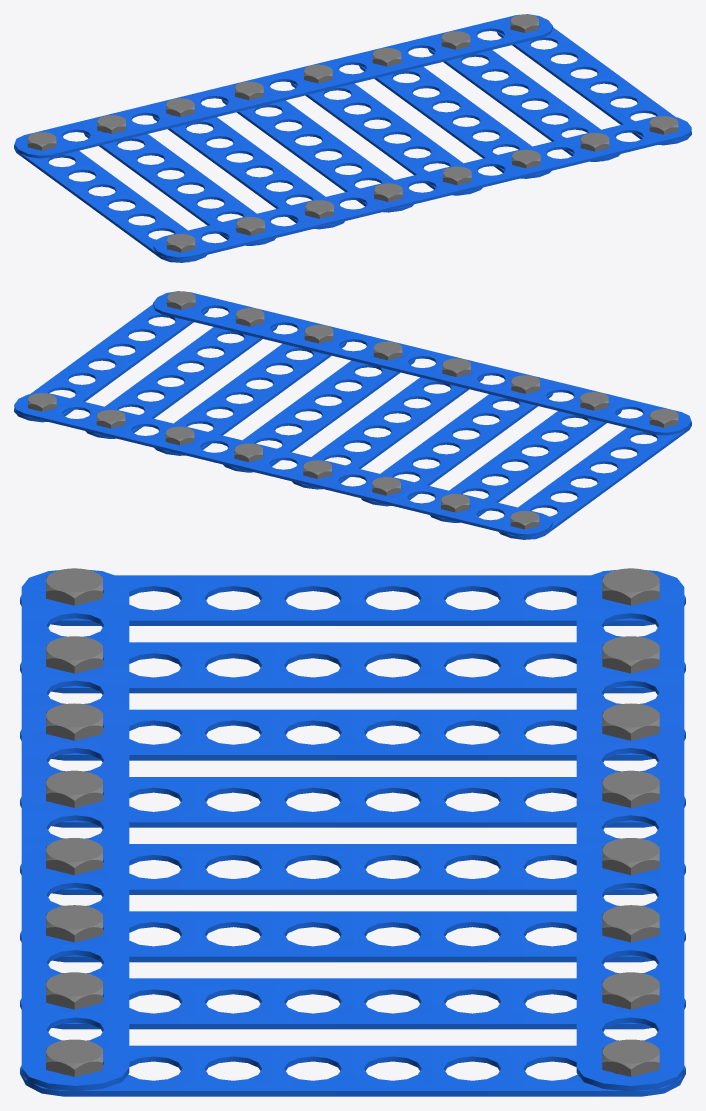
File: ConstructedPanelBlue.fbx
3 renders of one model, top to bottom at view 1: azimuth 30°, elevation 25°; view 2: azimuth 150°, elevation 25°; view 3: azimuth 270°, elevation 25°, orthographic. The views are drawn at different scales.
Parts seen in each view (by area): view 1: Bridge, 2HighConnection; view 2: Bridge, 2HighConnection; view 3: Bridge, 2HighConnection.
Part boxes in pixels (box(x1,y1,x2,y2)): Bridge: box(14, 14, 691, 262); 2HighConnection: box(27, 14, 678, 262); Bridge: box(14, 291, 691, 539); 2HighConnection: box(28, 291, 678, 529); Bridge: box(20, 569, 685, 1096); 2HighConnection: box(46, 568, 659, 1095).
Size of the model in its own units: 39.25 by 1.13 by 21.36.
